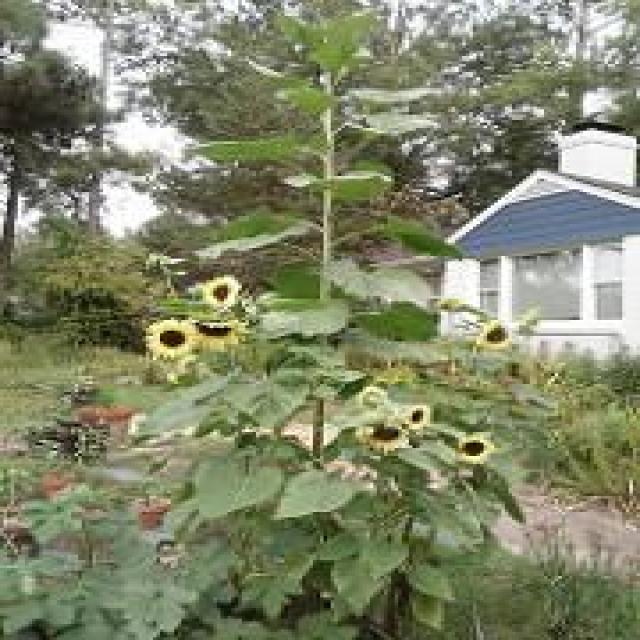sunflower: (191, 318, 252, 352), (140, 320, 198, 355), (474, 318, 514, 350), (201, 274, 236, 306), (452, 433, 491, 460), (406, 402, 430, 426)
